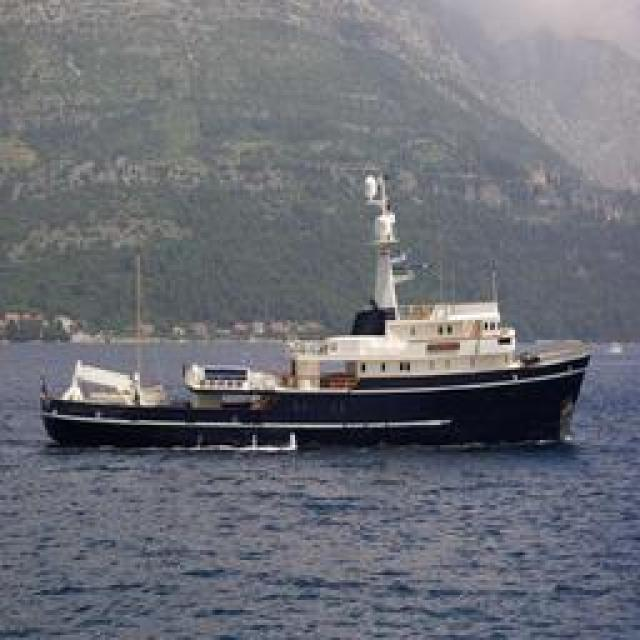CIV_Ship: (45, 270, 613, 450)
